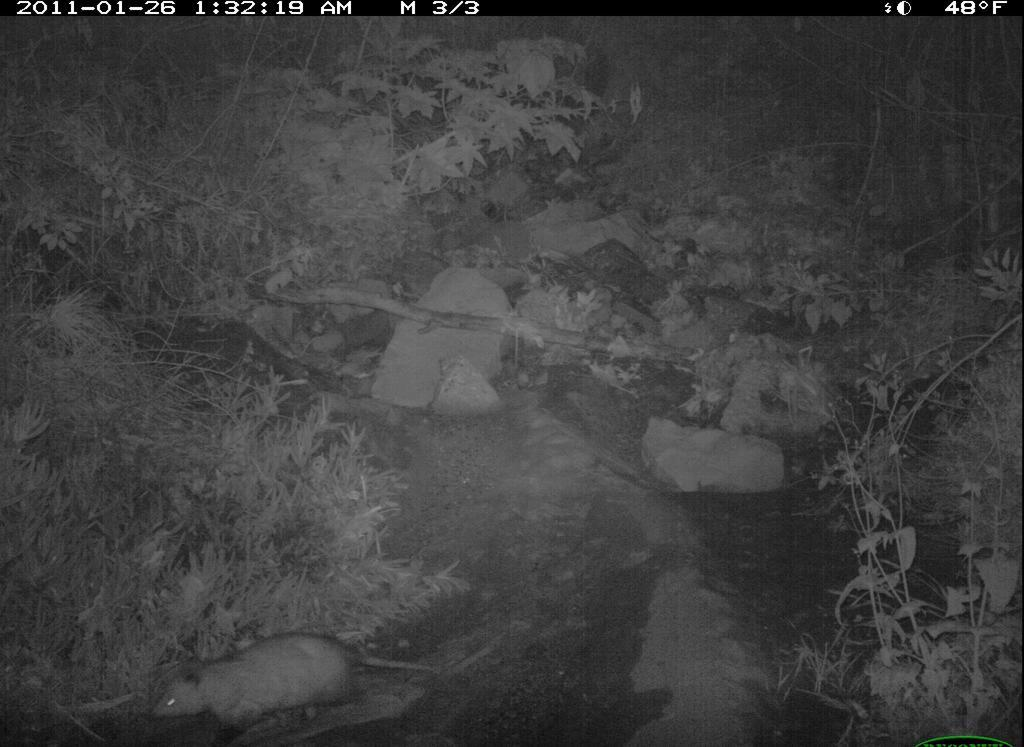opossum: (144, 596, 441, 742)
